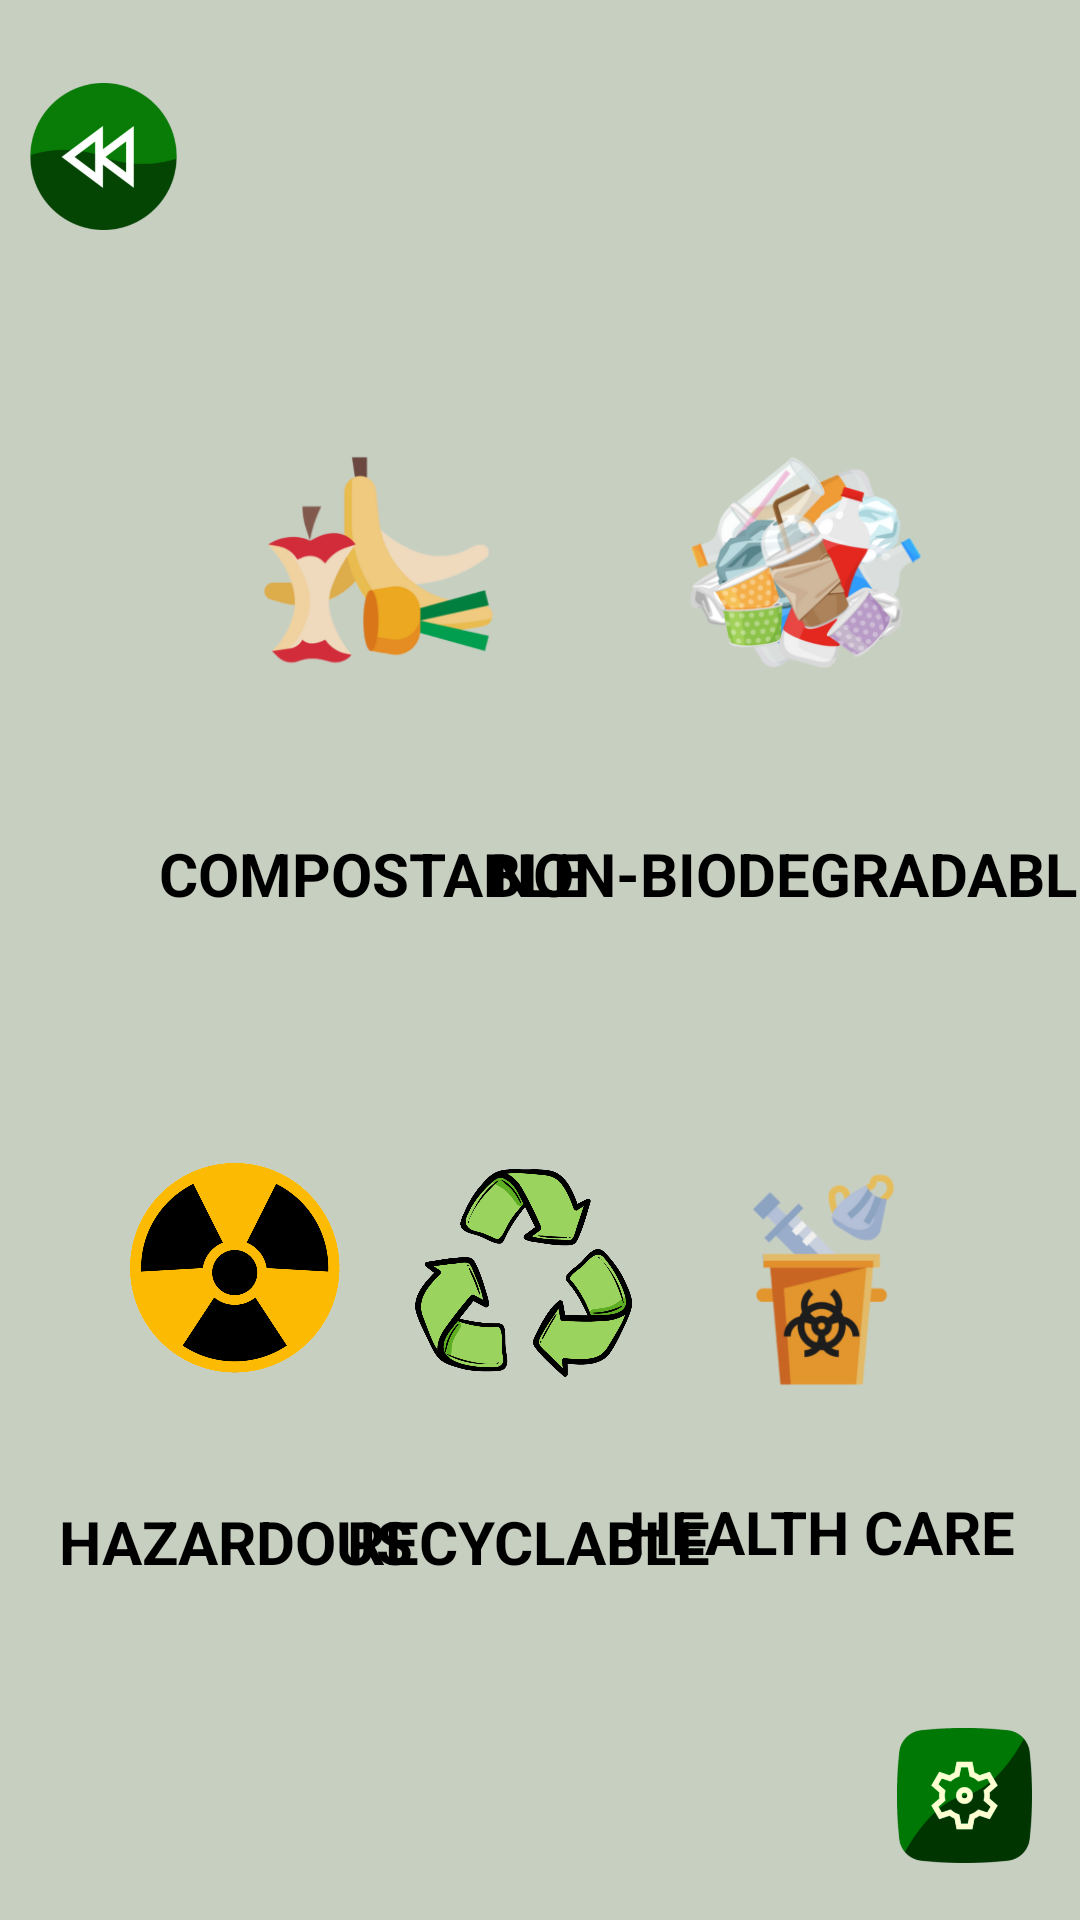

Screen size 1080px x 1920px. Icon name, then its box in pixels as (x1, y1, x2, y2):
Back to home: (30, 83, 177, 230)
bio: (264, 457, 493, 663)
medical: (753, 1174, 894, 1385)
settings: (897, 1728, 1032, 1863)
